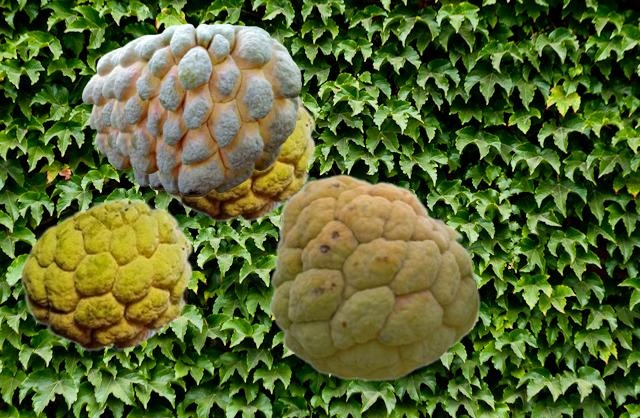atis: (268, 173, 479, 380), (102, 23, 300, 196), (19, 198, 192, 350), (155, 95, 315, 221), (82, 47, 163, 189)
